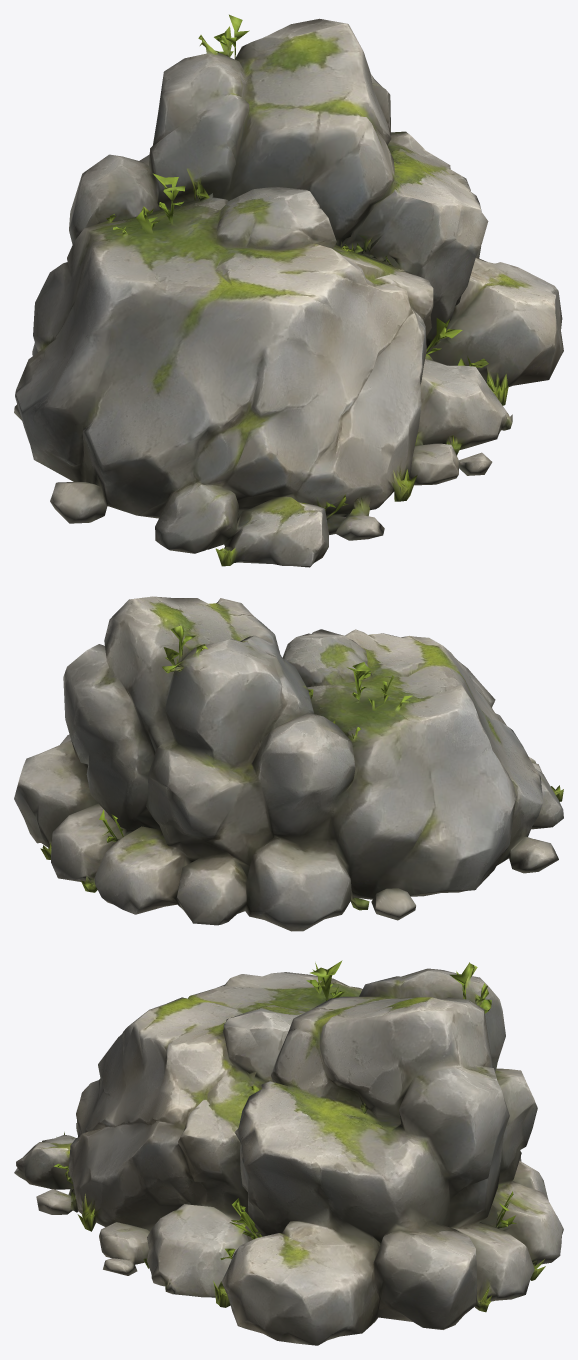
The model's file is rock10.glb.
3 views of the same model, one above another, from view 1: azimuth 30°, elevation 25°; view 2: azimuth 150°, elevation 25°; view 3: azimuth 270°, elevation 25° (orthographic). The views are drawn at different scales.
Parts seen in each view (by area): view 1: tripo_node_433340d3-bb5b-4a59-b3d8-e4604c5398f8; view 2: tripo_node_433340d3-bb5b-4a59-b3d8-e4604c5398f8; view 3: tripo_node_433340d3-bb5b-4a59-b3d8-e4604c5398f8.
Boxes of the visible parts, <box> form: tripo_node_433340d3-bb5b-4a59-b3d8-e4604c5398f8: <box>14,14,563,567</box>; tripo_node_433340d3-bb5b-4a59-b3d8-e4604c5398f8: <box>14,596,563,931</box>; tripo_node_433340d3-bb5b-4a59-b3d8-e4604c5398f8: <box>14,960,563,1345</box>.
Size of the model in its own units: 0.9797 by 0.557 by 0.9515.
Materials: 1 (1 with a texture image).
